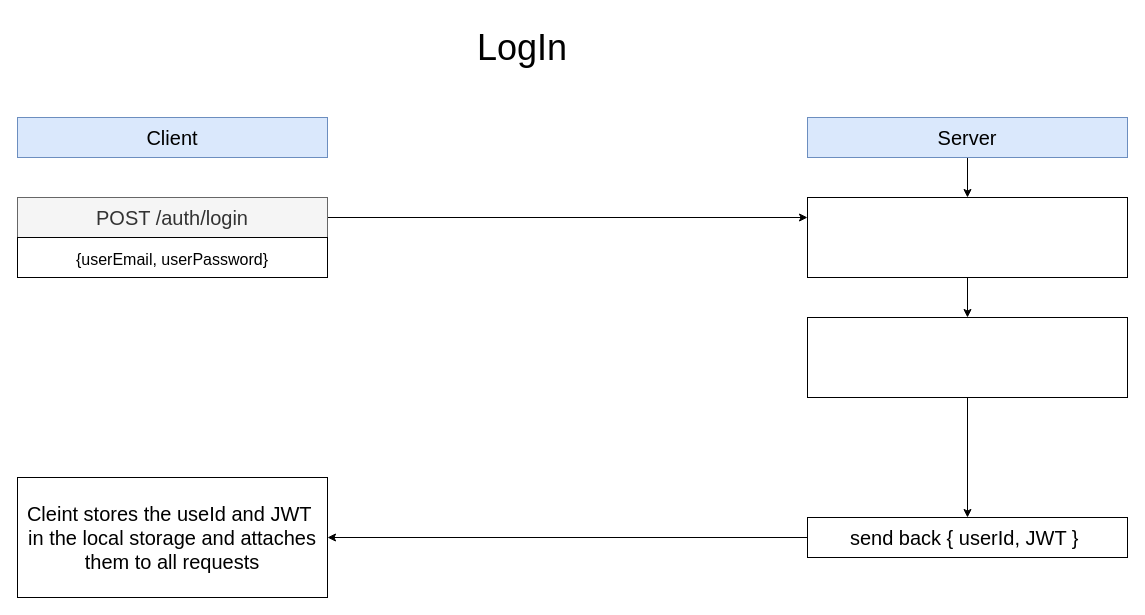
The diagram is 1145 pixels wide and 615 high, and some of its shapes have lost their labels. The centre of each missing label's shape, as x and y in pixels:
check if user exist in the database , Return error if not: point 967,357
Validate the data: 1. userEmail[email] 2. userPassword[string, pattern()]: point 967,237
